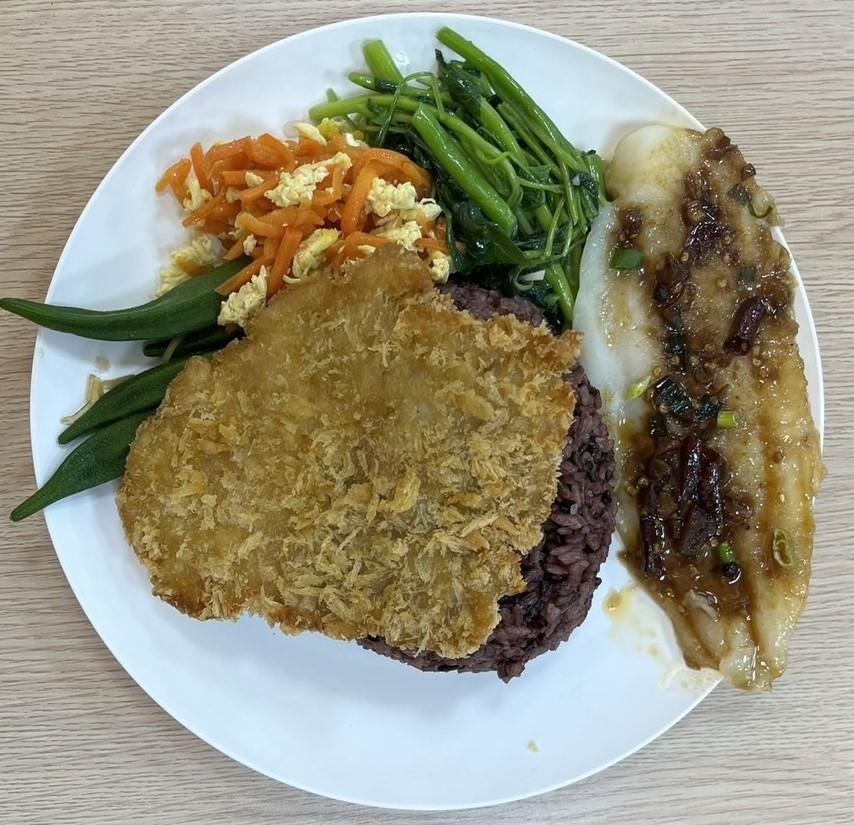big fried chicken leg: (28, 4, 829, 820)
braised fish: (382, 278, 615, 689)
braised fish fillet: (344, 30, 597, 307), (2, 257, 250, 537), (174, 122, 447, 299)
braised pork: (117, 248, 574, 667)
braised pork ribs: (574, 116, 819, 683)
